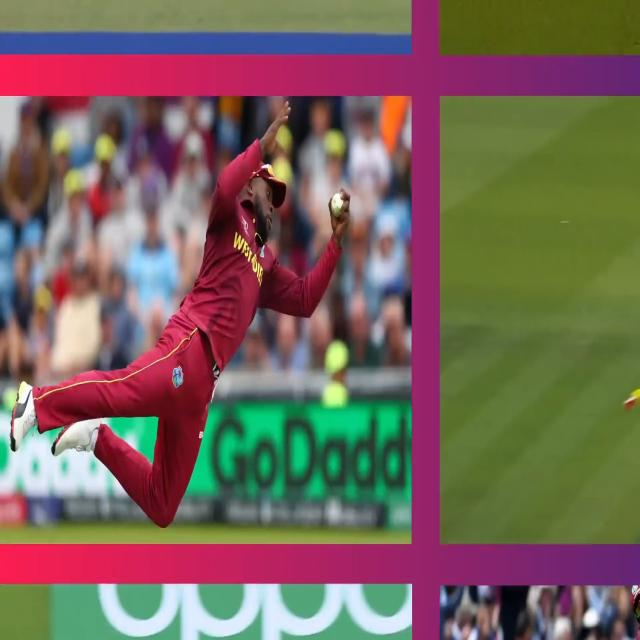ball: (329, 184, 347, 223)
